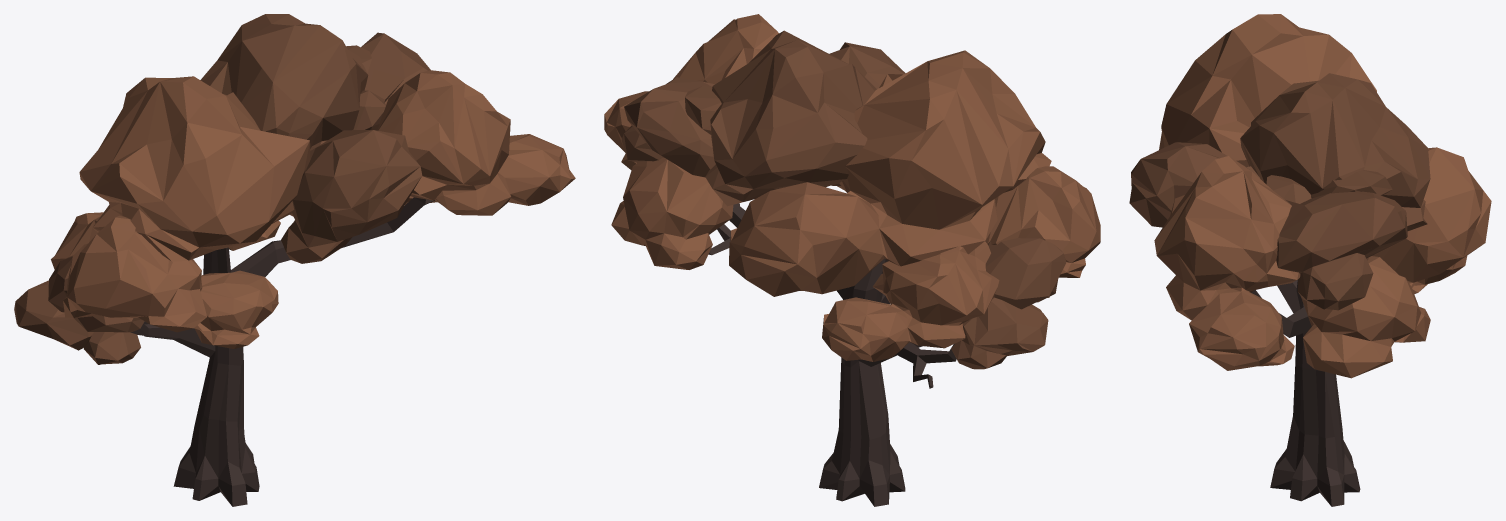
File: SM_Env_Tree_01.fbx
3 views of the same model, side by side, from view 1: azimuth 30°, elevation 25°; view 2: azimuth 150°, elevation 25°; view 3: azimuth 270°, elevation 25° (orthographic). The views are drawn at different scales.
Visible parts, largest first — view 1: SM_Env_Tree_01; view 2: SM_Env_Tree_01; view 3: SM_Env_Tree_01.
Boxes of the visible parts, bbox=[...] form: SM_Env_Tree_01: bbox=[14, 14, 575, 506]; SM_Env_Tree_01: bbox=[604, 14, 1100, 506]; SM_Env_Tree_01: bbox=[1129, 14, 1491, 506].
Size of the model in its own units: 1133 by 981 by 721.
Materials: 1 (1 with a texture image).
